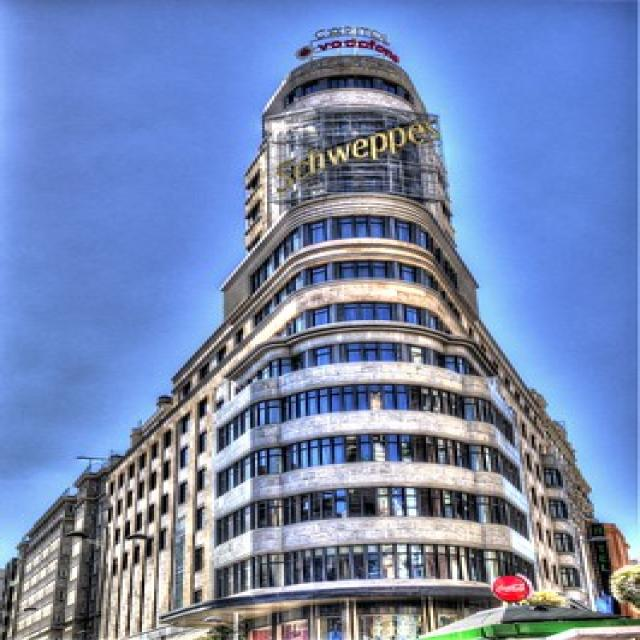building: (208, 22, 502, 640)
